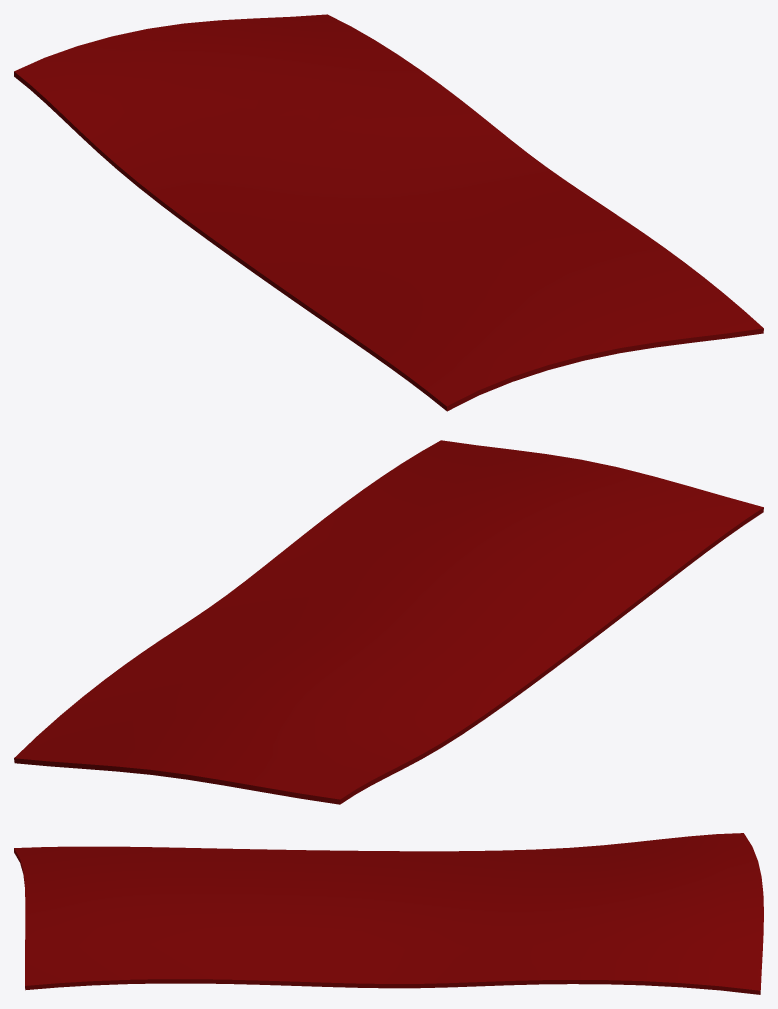
Rendered from Tapis_6.fbx.
3 renders of one model, top to bottom at view 1: azimuth 30°, elevation 25°; view 2: azimuth 150°, elevation 25°; view 3: azimuth 270°, elevation 25°, orthographic. The views are drawn at different scales.
Parts seen in each view (by area): view 1: nurbsToPoly3; view 2: nurbsToPoly3; view 3: nurbsToPoly3.
Part boxes in pixels (x1,y1,x2,y2): nurbsToPoly3: (14,14,763,411); nurbsToPoly3: (14,440,763,804); nurbsToPoly3: (14,833,763,994).
Size of the model in its own units: 72.41 by 7.72 by 172.
